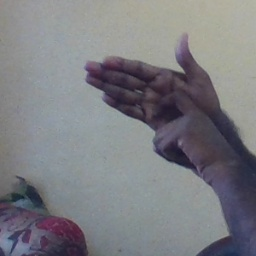R: (79, 31, 226, 167)
